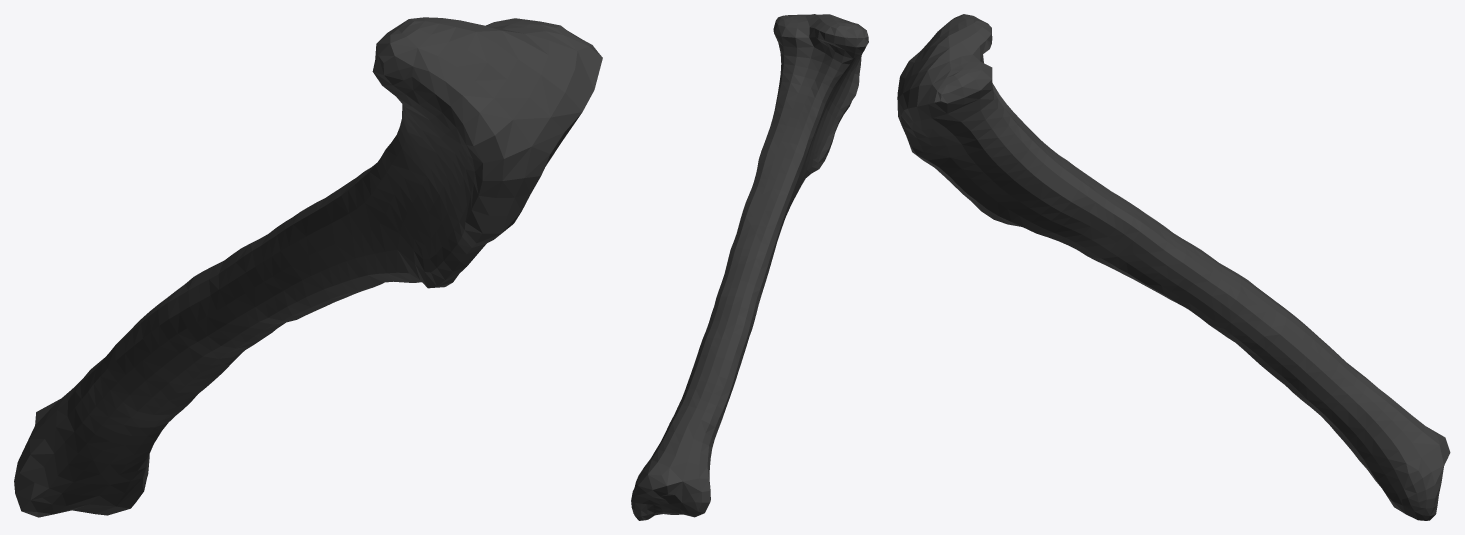
The model's file is Tibia_R.glb.
3 renders of one model, left to right at view 1: azimuth 30°, elevation 25°; view 2: azimuth 150°, elevation 25°; view 3: azimuth 270°, elevation 25°, orthographic. The views are drawn at different scales.
Visible parts, largest first — view 1: Tibia_R; view 2: Tibia_R; view 3: Tibia_R.
Part boxes in pixels (x1,y1,x2,y2): Tibia_R: (14,17,602,517); Tibia_R: (631,14,868,520); Tibia_R: (897,14,1450,520).
Size of the model in its own units: 2.54 by 8.05 by 8.31.
1 material, 1 textured.
